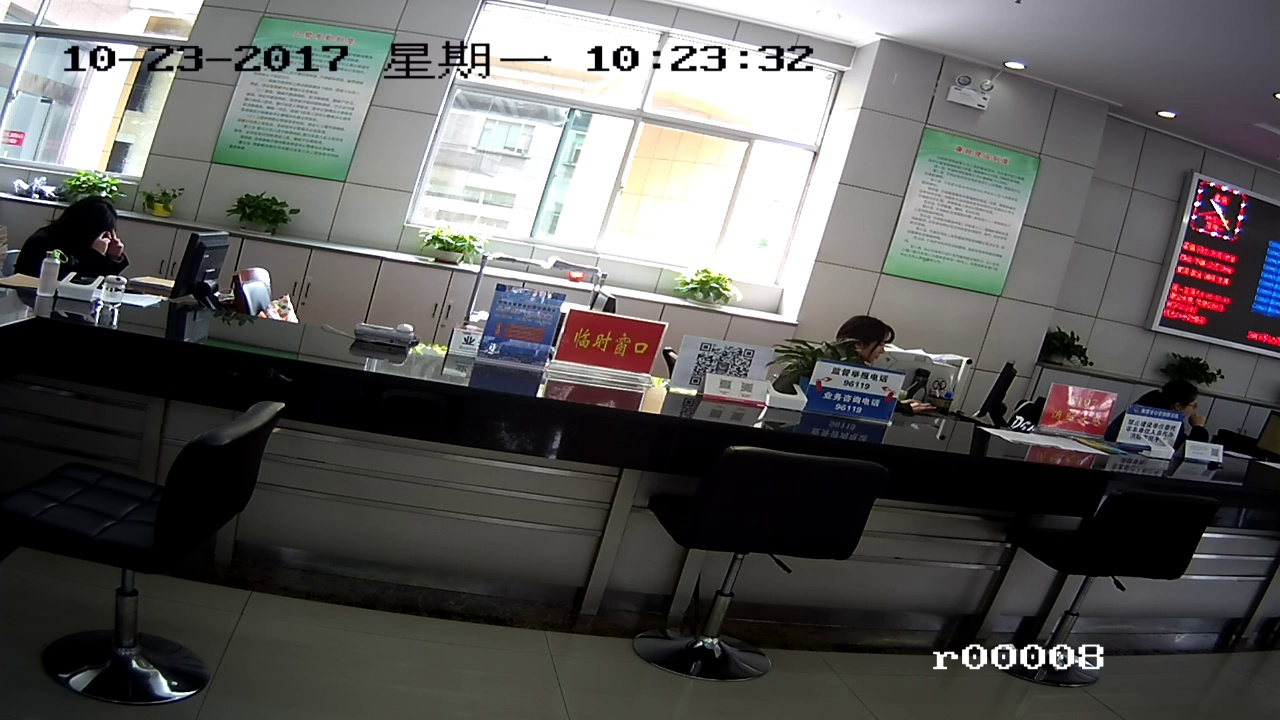billboard: (220, 21, 369, 178), (893, 131, 1038, 289), (568, 315, 659, 378), (807, 370, 900, 428), (1041, 394, 1114, 445)
chair: (26, 415, 331, 701), (631, 450, 907, 676), (1014, 487, 1210, 672)
monitor: (176, 227, 222, 316)
person: (34, 202, 120, 276), (822, 312, 901, 358), (1143, 378, 1207, 421)
pot: (230, 195, 285, 235), (430, 231, 483, 270), (1041, 329, 1095, 365), (138, 184, 188, 220), (682, 270, 734, 304)
